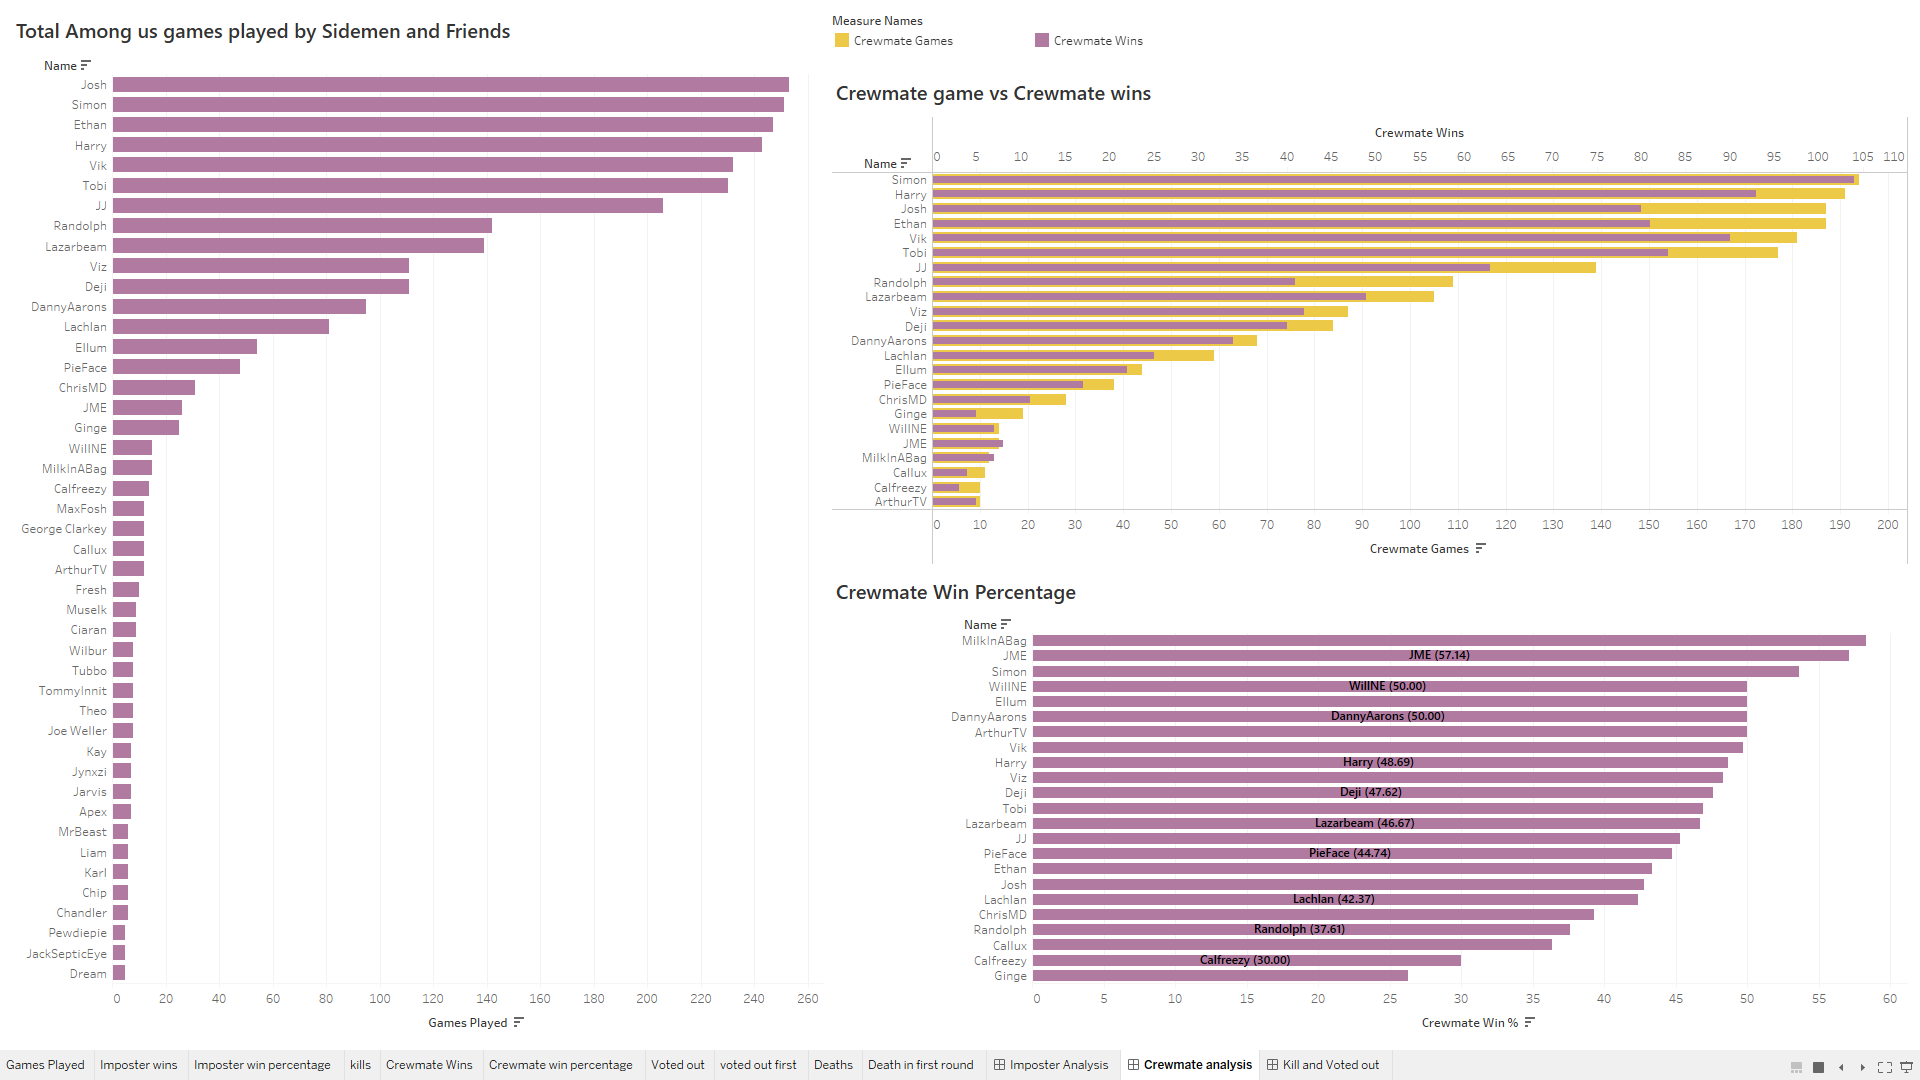

The dashboard page shown, as its layout file describes it:
{"tool":"tableau","page":{"name":"Crewmate analysis","canvas":[1000,1000],"units":"permille","ordinal":0},"visuals":[{"type":"worksheet","title":"Games Played","mark":"Bar","rows":["Name"],"cols":["Games Played"],"box":[4.7,8.9,426.6,982.1]},{"type":"legend","title":"Crewmate Wins","param":"[federated.0xwlhxd0jxvfds1dibkh81if3xmn].[:Measure Names]","box":[431.2,8.9,564.1,59.1]},{"type":"worksheet","title":"Crewmate Wins","mark":"Bar","rows":["Name"],"cols":["Crewmate Games","Crewmate Wins"],"box":[431.2,68.1,564.1,473.7]},{"type":"worksheet","title":"Crewmate win percentage","mark":"Bar","rows":["Name"],"cols":["Crewmate Win %"],"box":[431.2,541.8,564.1,449.2]}]}

Visuals, with their boxes on the dashboard's canvas, which has no fixed pixel size, in thousandths of its width and height (x1, y1, x2, y2). These are canvas units, not pixel positions in the 1920x1080 screenshot, which may show the page scaled, cropped or inside an application window:
"Games Played" worksheet (Bar marks): pyautogui.locateOnScreen(5, 9, 431, 991)
"Crewmate Wins" legend: pyautogui.locateOnScreen(431, 9, 995, 68)
"Crewmate Wins" worksheet (Bar marks): pyautogui.locateOnScreen(431, 68, 995, 542)
"Crewmate win percentage" worksheet (Bar marks): pyautogui.locateOnScreen(431, 542, 995, 991)
